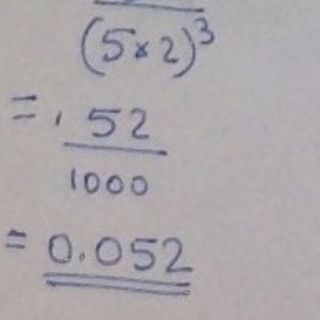.: (54, 109, 66, 127), (76, 249, 88, 263)
0: (46, 231, 76, 266), (93, 233, 123, 267)
1: (66, 165, 80, 191)
2: (160, 234, 196, 274), (127, 100, 157, 143), (157, 30, 180, 65)
3: (193, 14, 221, 47)
5: (100, 21, 135, 66), (84, 102, 122, 141), (128, 234, 157, 273)
